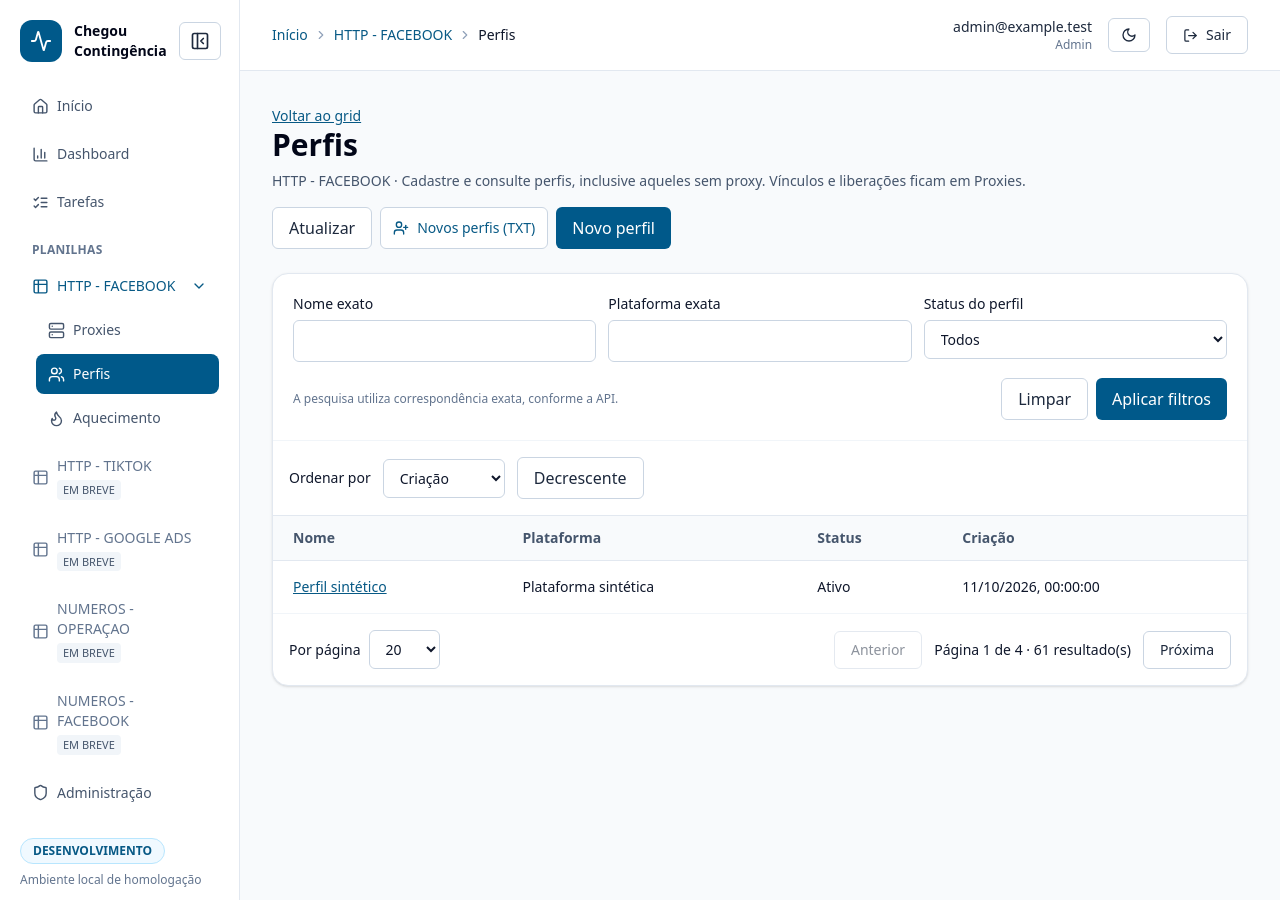
Scenario: cadastro valida campos e usa CSRF compartilhado; navega para detalhes
This screenshot has width=1280, height=900.
Expected: the link "Perfil sintético" is shown, 293,577 -> 387,596
Click the button "Novo perfil": (614, 228) 556,207 -> 671,249
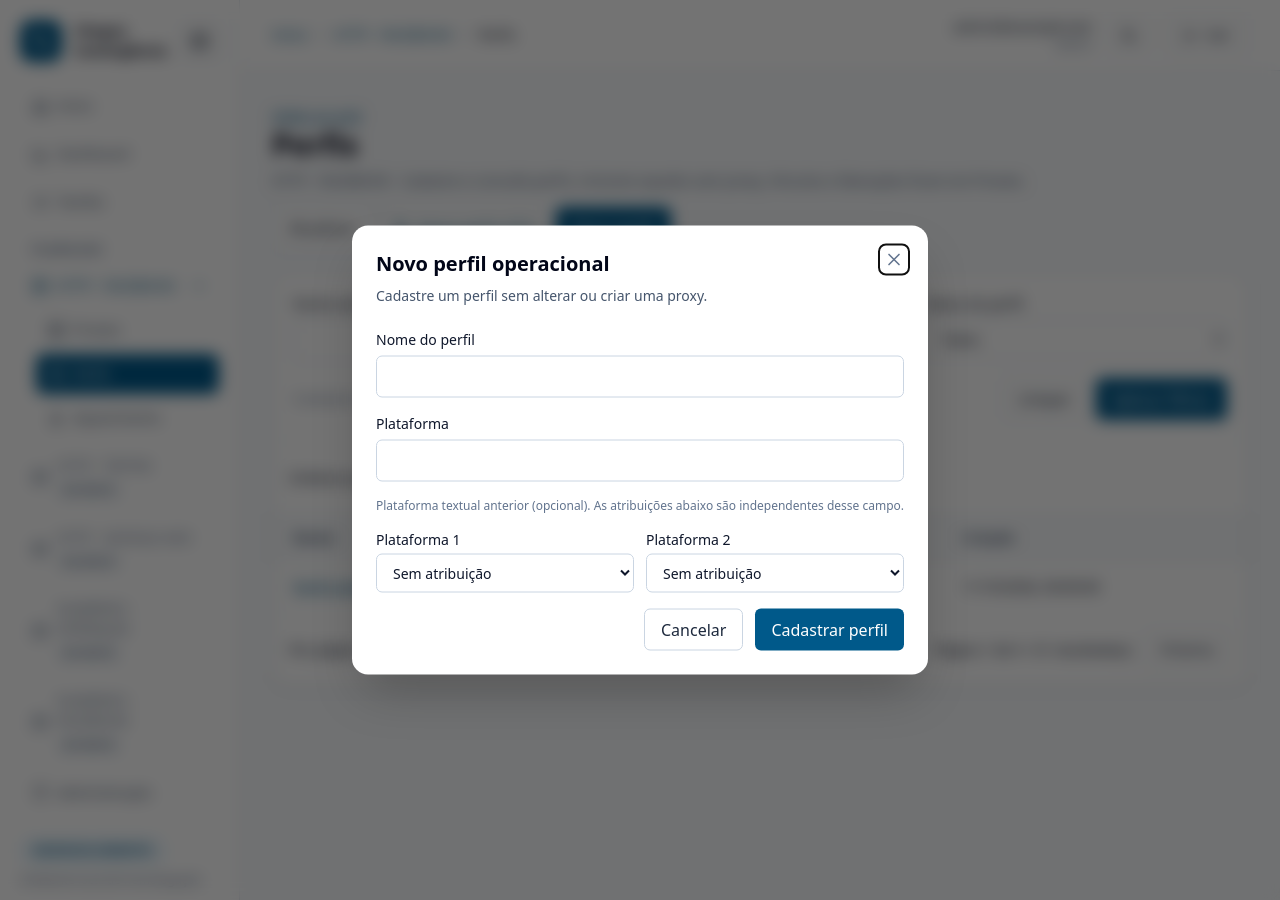
Click the button "Cadastrar perfil": (830, 630) 755,608 -> 904,650
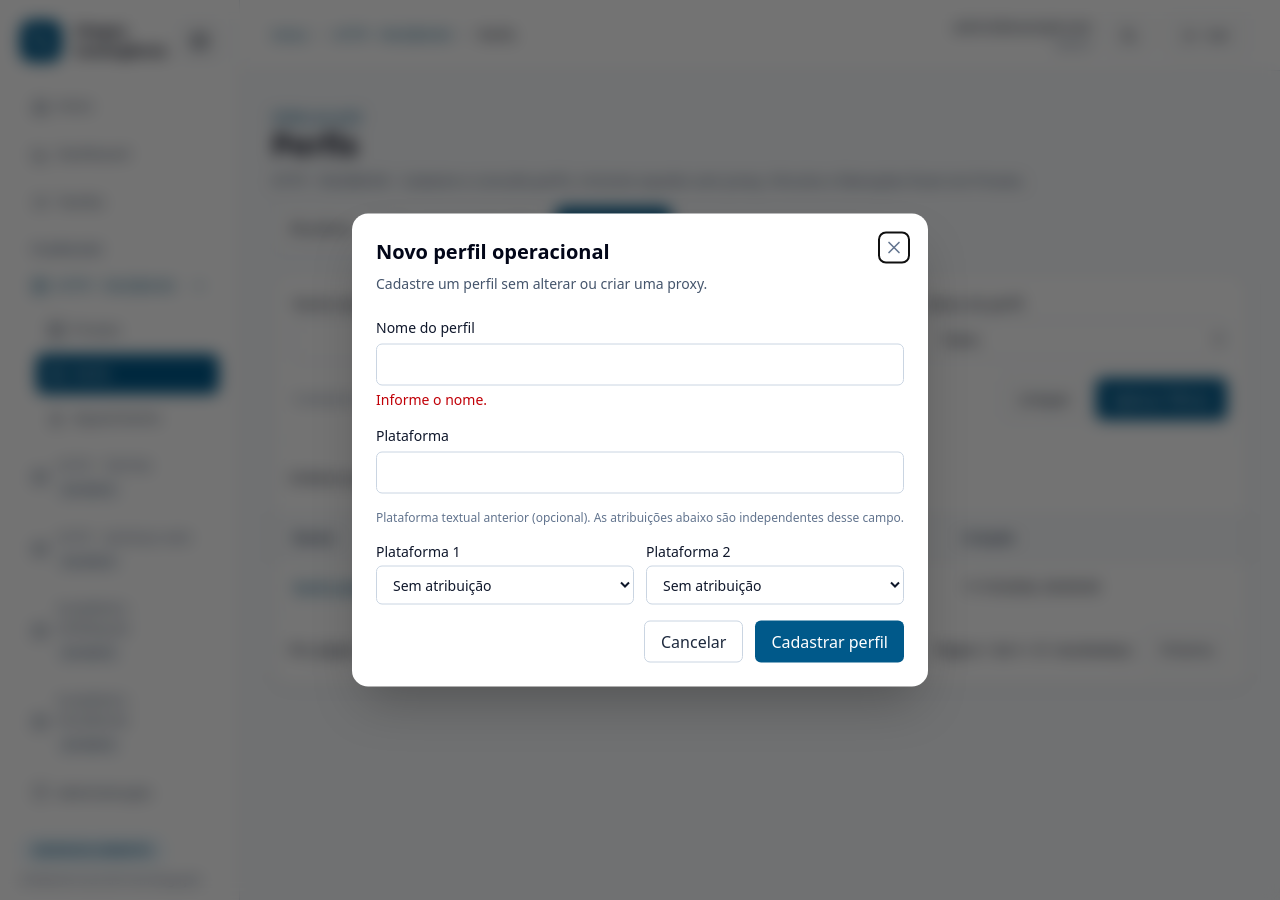
Result: the text "Informe o nome." is shown at 376,390 -> 487,408
In the field labelled "Nome do perfil": (640, 364) 376,344 -> 904,386, type " Novo sintético "
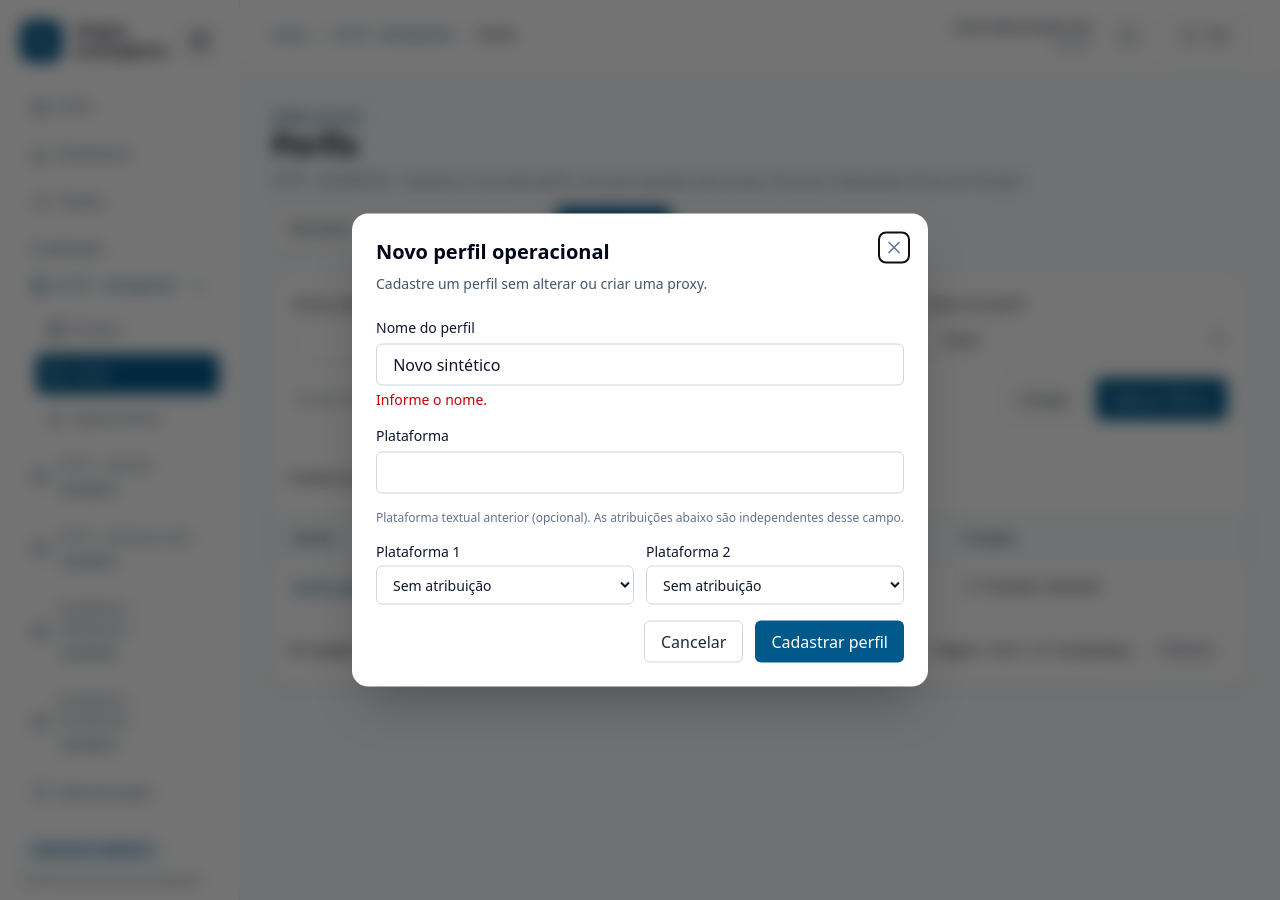
In the field labelled "Plataforma": (640, 472) 376,452 -> 904,494, type " Outra "
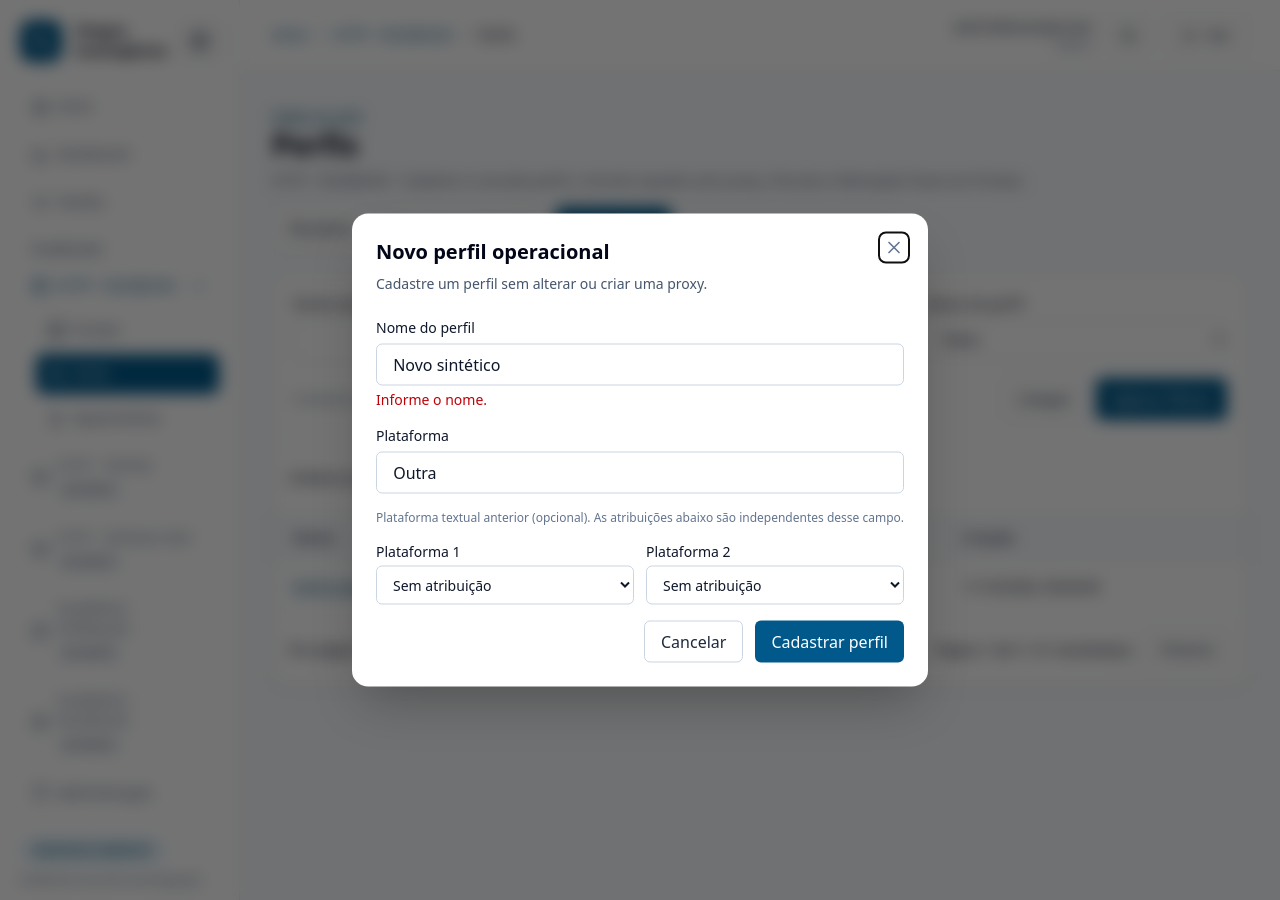
Click the button "Cadastrar perfil": (830, 642) 755,620 -> 904,662
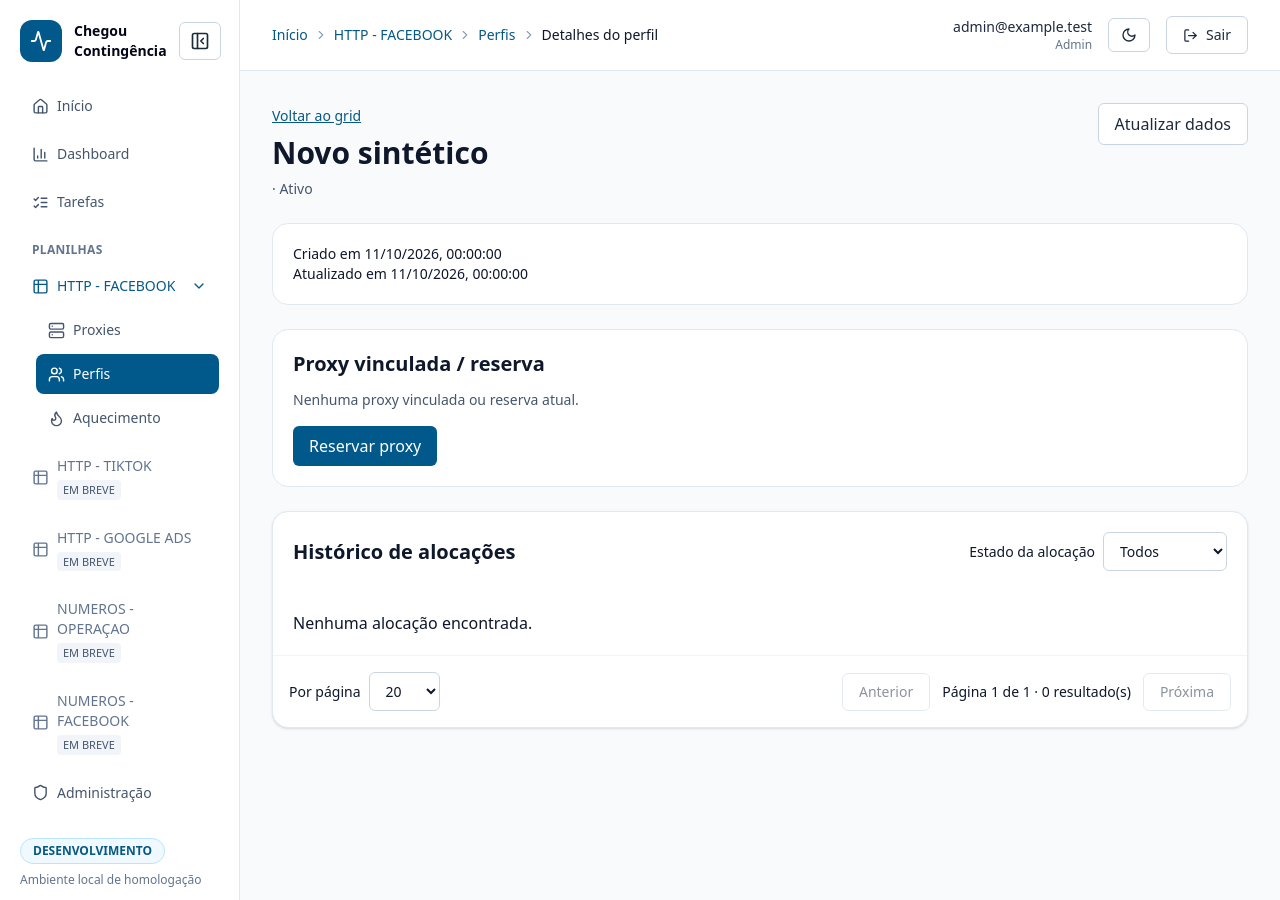
Result: the heading "Novo sintético" is shown at 272,135 -> 488,171
